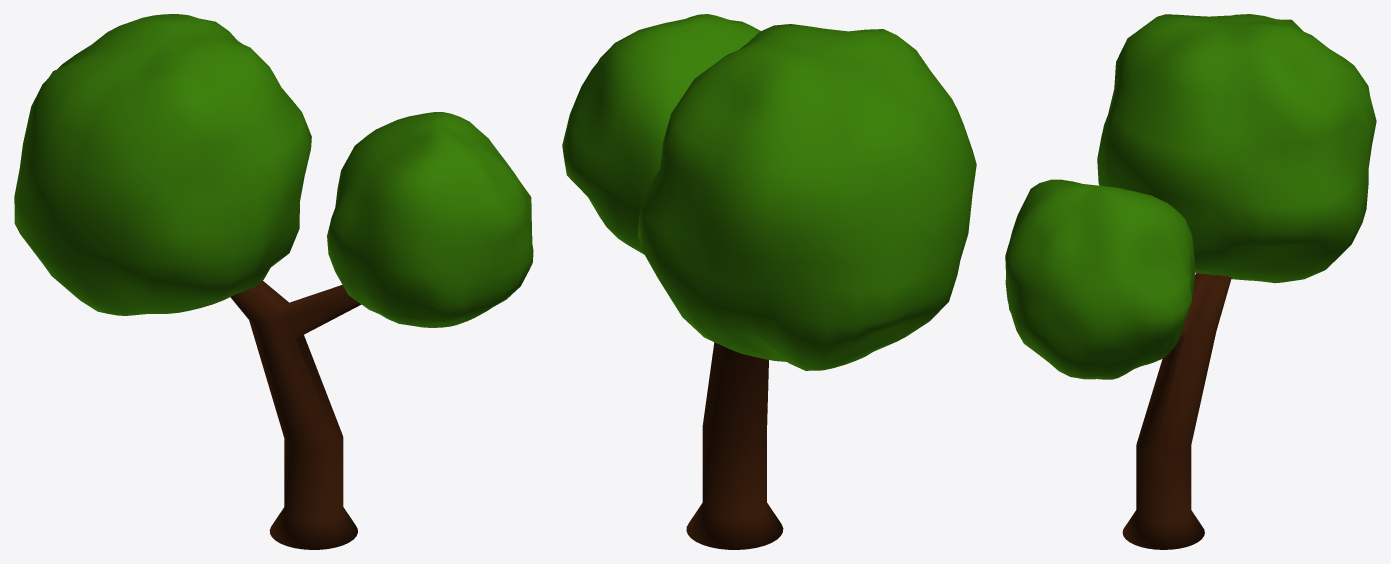
Rendered from tree1.glb.
3 views of the same model, side by side, from view 1: azimuth 30°, elevation 25°; view 2: azimuth 150°, elevation 25°; view 3: azimuth 270°, elevation 25° (orthographic). The views are drawn at different scales.
Visible parts, largest first — view 1: Tree1; view 2: Tree1; view 3: Tree1.
Part boxes in pixels (box(x1,y1,x2,y2)): Tree1: box(14, 14, 533, 549); Tree1: box(562, 14, 976, 549); Tree1: box(1005, 14, 1376, 549).
Bounding box in the file's own units: 9.1 × 10.41 × 7.6.
1 material, 1 textured.
